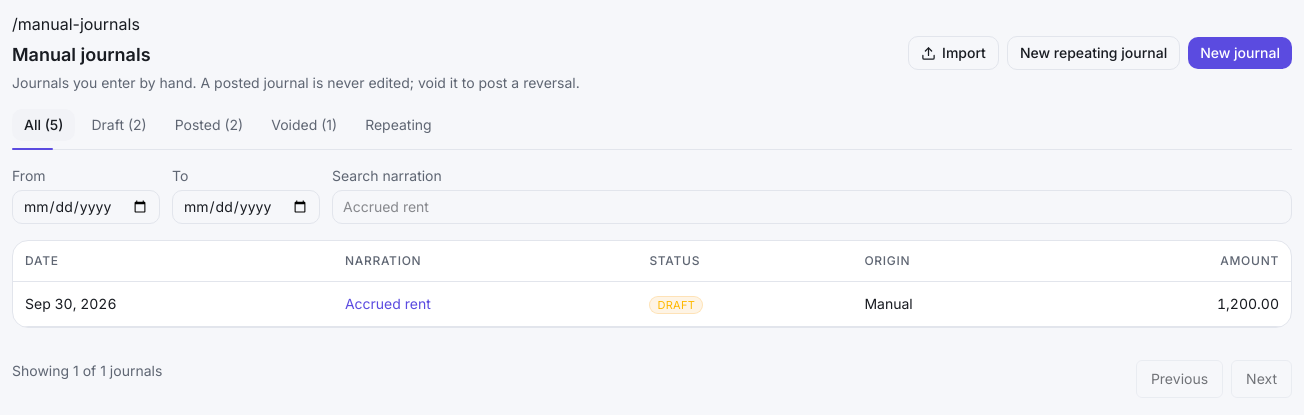
it: ManualJournalsPage › tabs show counts and switching to Draft sets ?status=draft
Expected: the tab "All (5)" is shown, [12,108,76,140]
Expected: the tab "Posted (2)" is shown, [163,108,255,140]
What coordinates should you click on to do the following:
click the tab "Draft (2)"
I would click on:
 (119, 124)
Its box is [80,108,159,140].
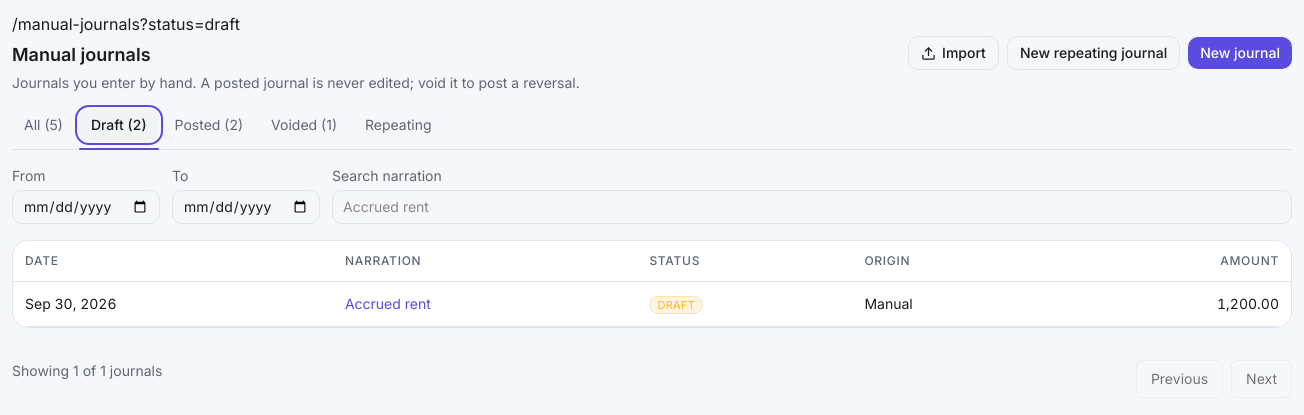
Now the text with test id "location" reads "/manual-journals?status=draft", box [12,14,240,34]
